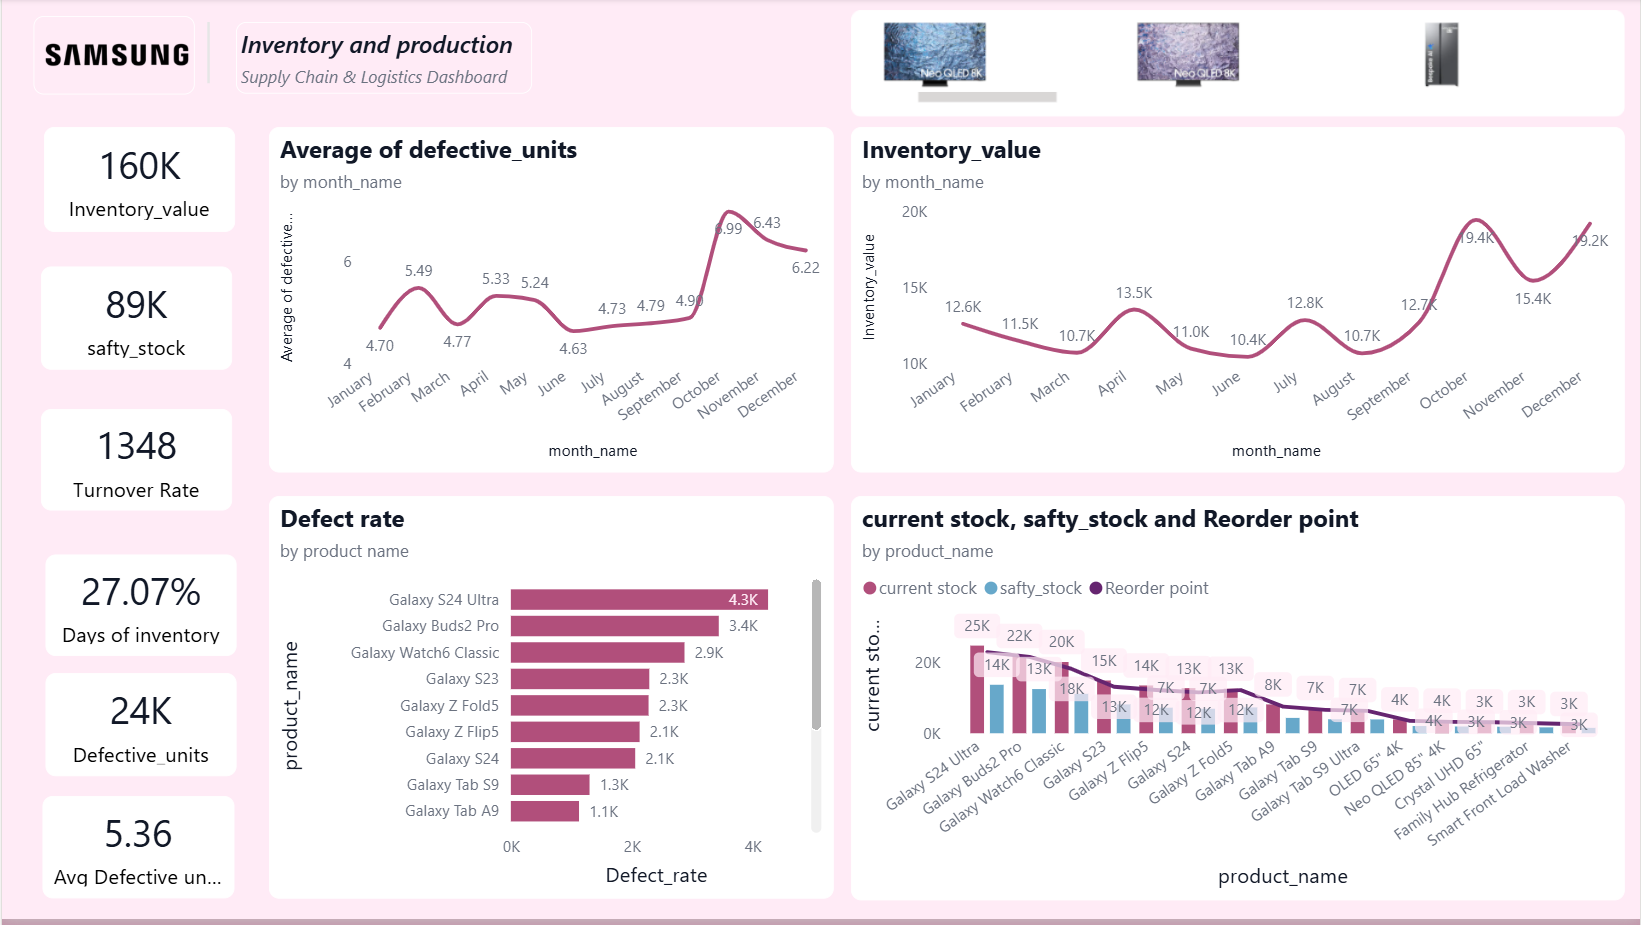

The page's visual inventory and layout, read from the dashboard file:
{"tool":"powerbi","page":{"name":"Inventory","canvas":[1280,720],"ordinal":3},"visuals":[{"type":"shape","title":"Inventory and production ","box":[182.3,19,231.1,55.8],"z":0},{"type":"shape","box":[139.8,19,43.8,47.8],"z":1000},{"type":"image","box":[24.3,13.7,126.2,61.1],"z":2000},{"type":"card","fields":{"Values":["MeasureTable.safety_stock"]},"box":[30.7,209.6,149.6,80.5],"z":3000},{"type":"card","fields":{"Values":["MeasureTable.Turnover Rate"]},"box":[30.7,320.9,149.6,79.3],"z":4000},{"type":"card","fields":{"Values":["MeasureTable.Days of inventory"]},"box":[34.5,434.6,149.6,79.3],"z":5000},{"type":"card","fields":{"Values":["Sum(fact_production.defective_units)"]},"box":[34.5,527.9,149.6,80.5],"z":6000},{"type":"card","fields":{"Values":["Avg(fact_production.defective_units)"]},"box":[31.8,623.1,149.7,79.7],"z":7000},{"type":"card","fields":{"Values":["MeasureTable.Inventory_value"]},"box":[33.2,101,149.6,81.8],"z":8000},{"type":"clusteredBarChart","title":"Defect rate","fields":{"Category":["dim_product.product_name"],"Y":["MeasureTable.Defect_rate"]},"box":[208.4,388.6,441,314.5],"z":9000},{"type":"lineClusteredColumnComboChart","fields":{"Category":["dim_product.product_name"],"Y":["MeasureTable.Inventory_value","MeasureTable.safty_stock"],"Y2":["MeasureTable.Reorder point"]},"box":[663.4,388.6,604.6,315.7],"z":10000},{"type":"lineChart","fields":{"Y":["Avg(fact_production.defective_units)"],"Category":["dim_date.month_name"]},"box":[208.4,101,441,269.7],"z":11000},{"type":"lineChart","fields":{"Category":["dim_date.month_name"],"Y":["MeasureTable.Inventory_value"]},"box":[663.4,101,604.6,269.7],"z":12000},{"type":"advancedSlicerVisual","fields":{"Values":["dim_product.product_name"]},"box":[663.5,9,604.6,83.3],"z":13000}]}

Visuals, with their boxes in screenshot pixels (x1, y1, x2, y2), scaled from the page's 1280x720 canvas onto the 1641x925 screenshot:
"Inventory and production " shape: 234/24/530/96
shape: 179/24/235/86
image: 31/18/193/96
card - MeasureTable.safety_stock: 39/269/231/373
card - MeasureTable.Turnover Rate: 39/412/231/514
card - MeasureTable.Days of inventory: 44/558/236/660
card - Sum(fact_production.defective_units): 44/678/236/782
card - Avg(fact_production.defective_units): 41/801/233/903
card - MeasureTable.Inventory_value: 43/130/234/235
"Defect rate" clusteredBarChart: 267/499/833/903
lineClusteredColumnComboChart - dim_product.product_name x MeasureTable.Inventory_value: 850/499/1626/905
lineChart - Avg(fact_production.defective_units) x dim_date.month_name: 267/130/833/476
lineChart - dim_date.month_name x MeasureTable.Inventory_value: 850/130/1626/476
advancedSlicerVisual - dim_product.product_name: 851/12/1626/119
